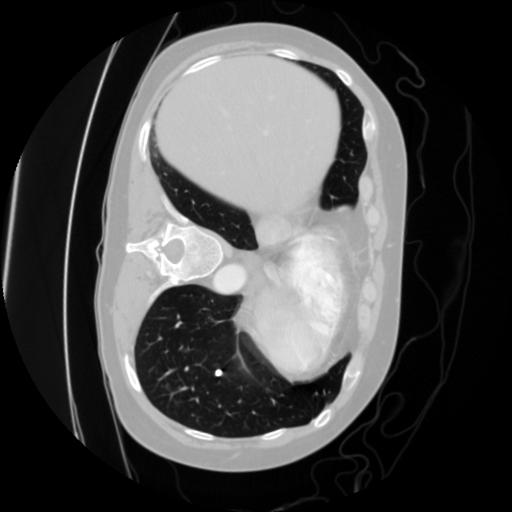nodule: (213, 366, 227, 380)
